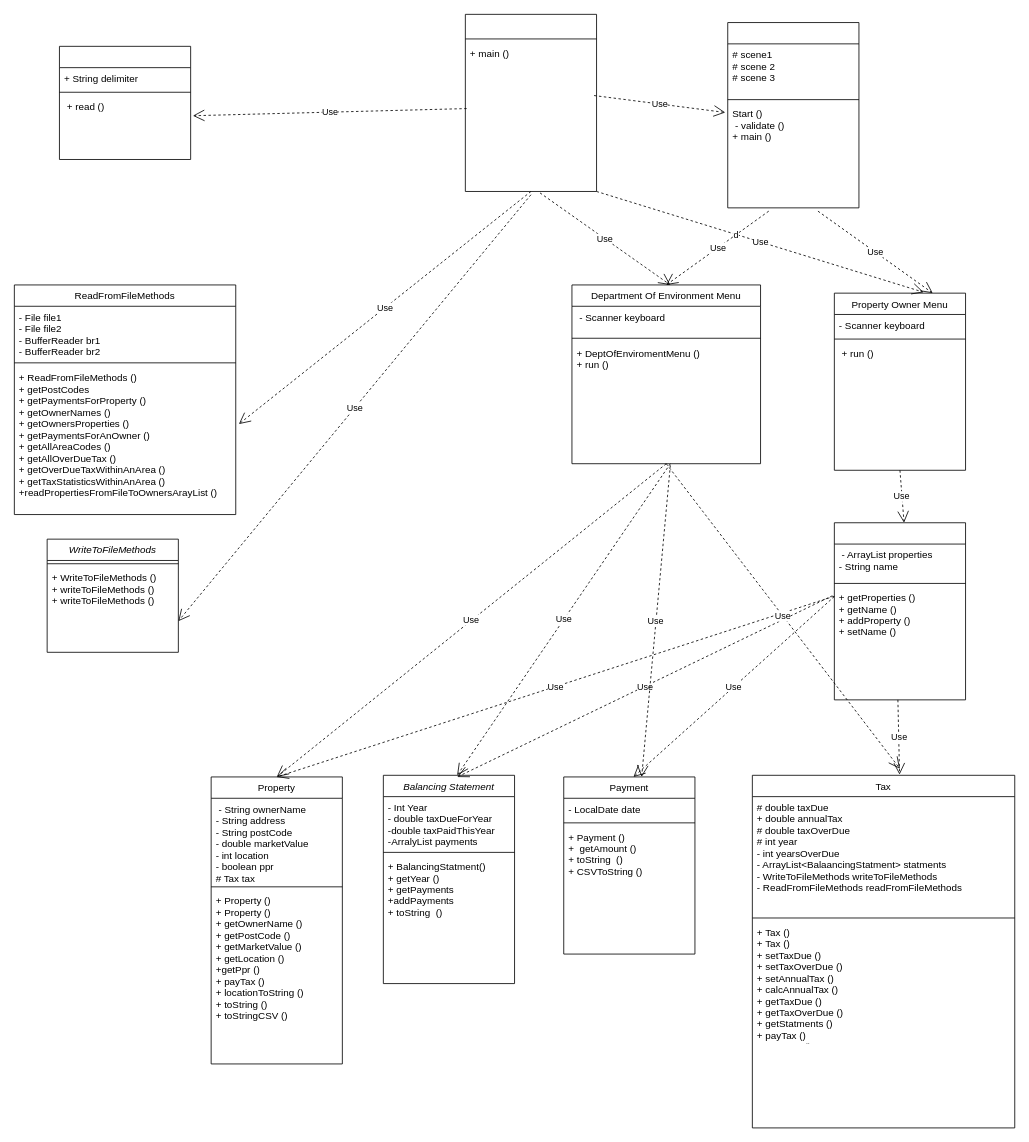
This 1029x1142 diagram has some shape labels left out. The shapes that lost their labels are listed below. From the top down, each one's box as (x1, y1, x2, y2) in pixels, then its label:
(59, 46, 191, 159): CSV Reader
(465, 14, 597, 191): Management System Sim
(727, 22, 859, 208): GUI
(834, 522, 966, 700): Owner
